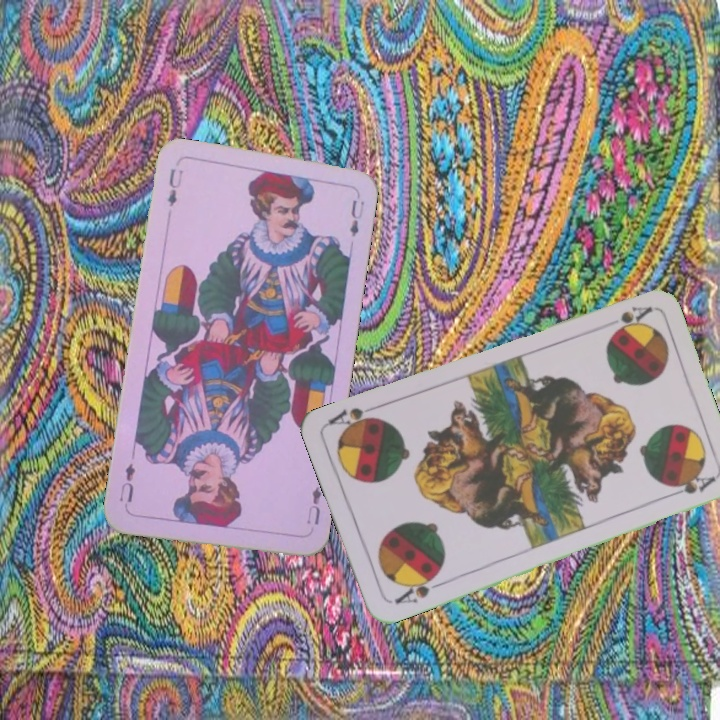EU: (302, 482, 324, 527), (163, 165, 185, 209)
SA: (390, 569, 446, 607), (607, 302, 654, 336)
